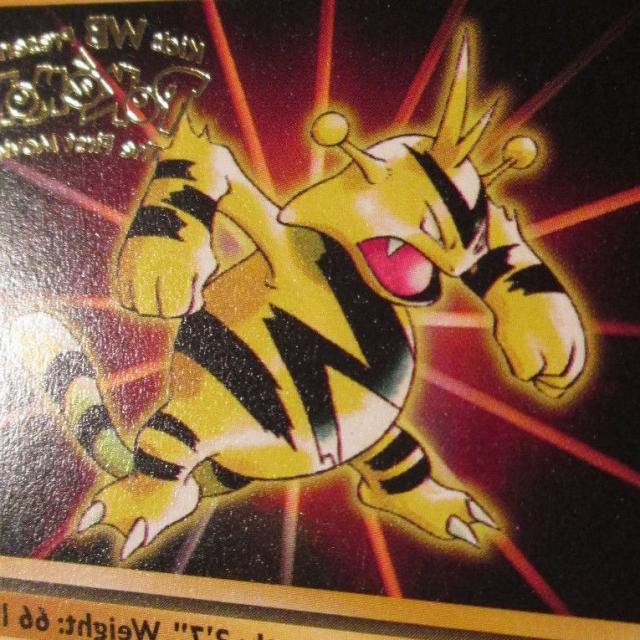Electabuzz: (71, 115, 552, 547)
